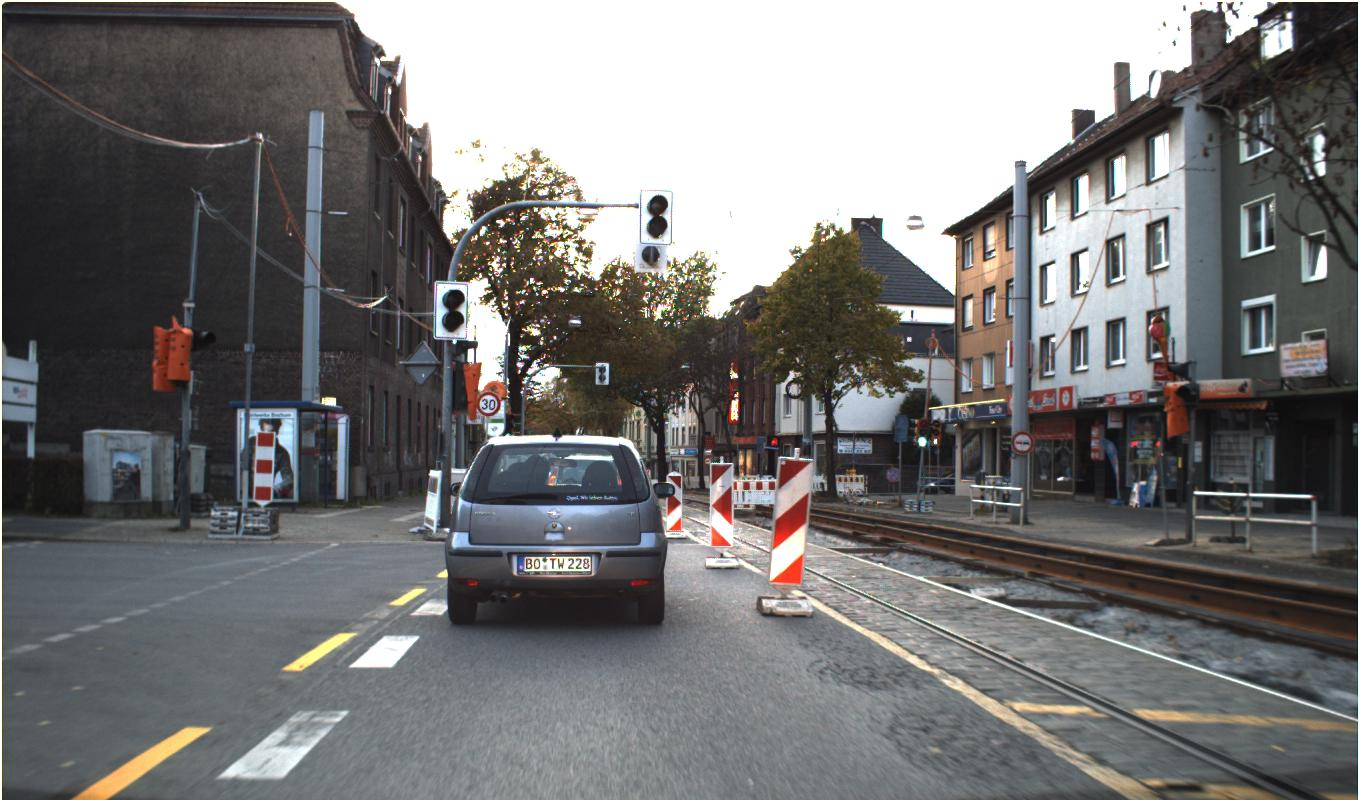prohibitory: (474, 389, 500, 415), (1010, 430, 1034, 455)
